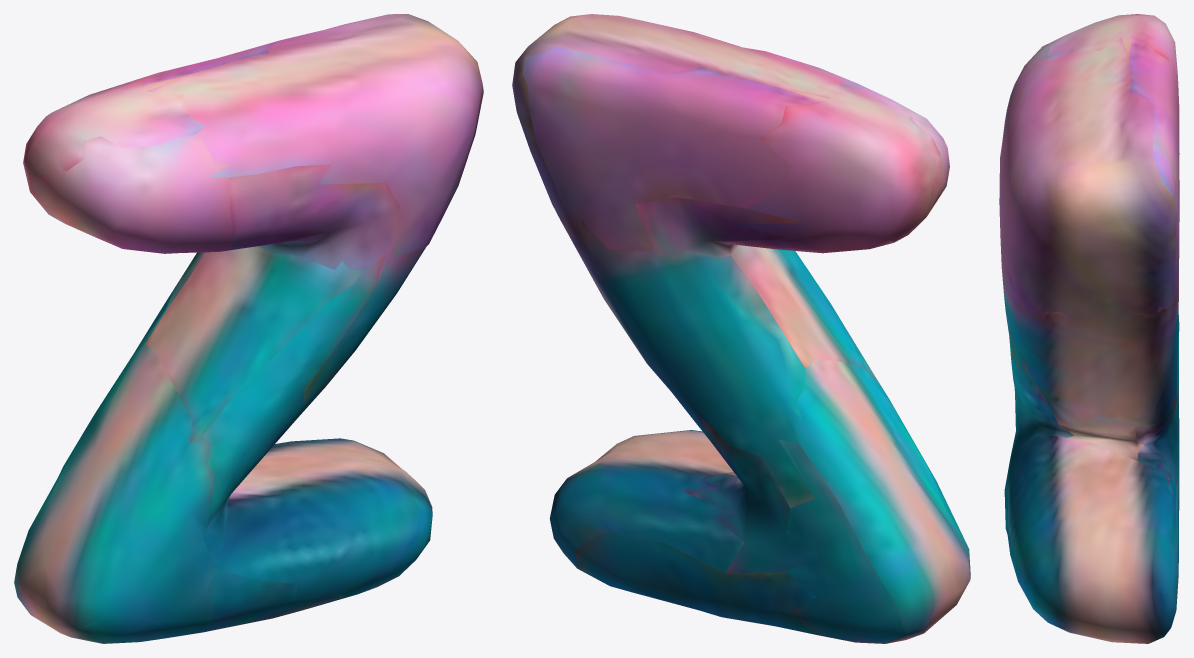
The picture shows the model from 3 angles, left to right: view 1: azimuth 30°, elevation 25°; view 2: azimuth 150°, elevation 25°; view 3: azimuth 270°, elevation 25°; orthographic projection. The views are drawn at different scales.
Parts seen in each view (by area): view 1: Candy-Letter-Z; view 2: Candy-Letter-Z; view 3: Candy-Letter-Z.
Boxes of the visible parts, <box> form: Candy-Letter-Z: <box>14,14,483,643</box>; Candy-Letter-Z: <box>512,14,970,643</box>; Candy-Letter-Z: <box>999,14,1179,643</box>.
Size of the model in its own units: 0.2809 by 0.339 by 0.1073.
Materials: 1 (1 with a texture image).
